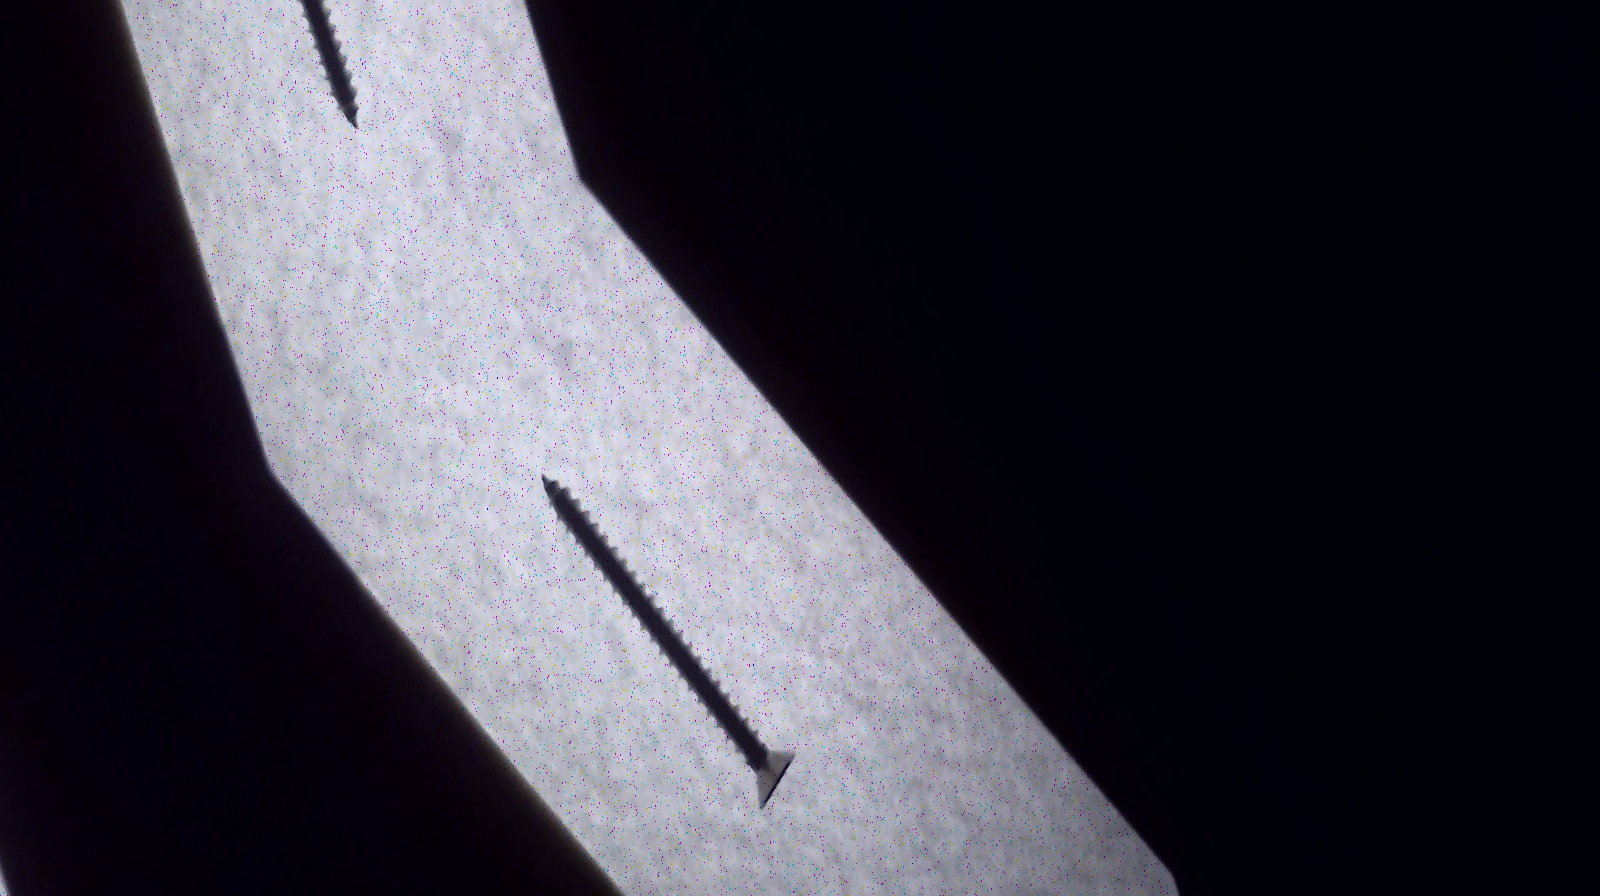S002: (521, 398, 812, 852)
